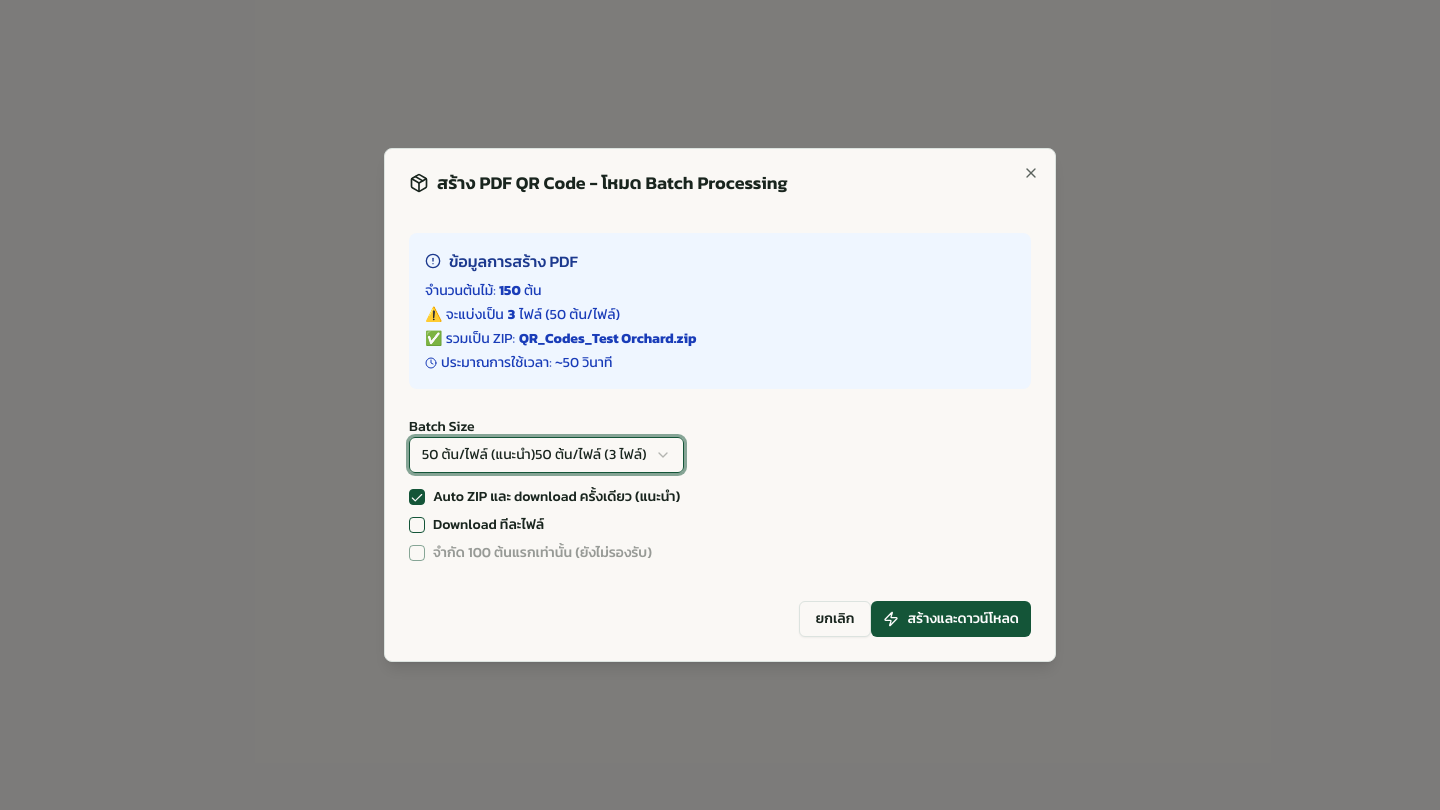
Test: BatchPDFExportModal › error handling › should show error message when generation fails
The width and height of the screenshot is (1440, 810).
Click the button "สร้างและดาวน์โหลด" at (951, 619), box x1=871 y1=601 x2=1031 y2=637
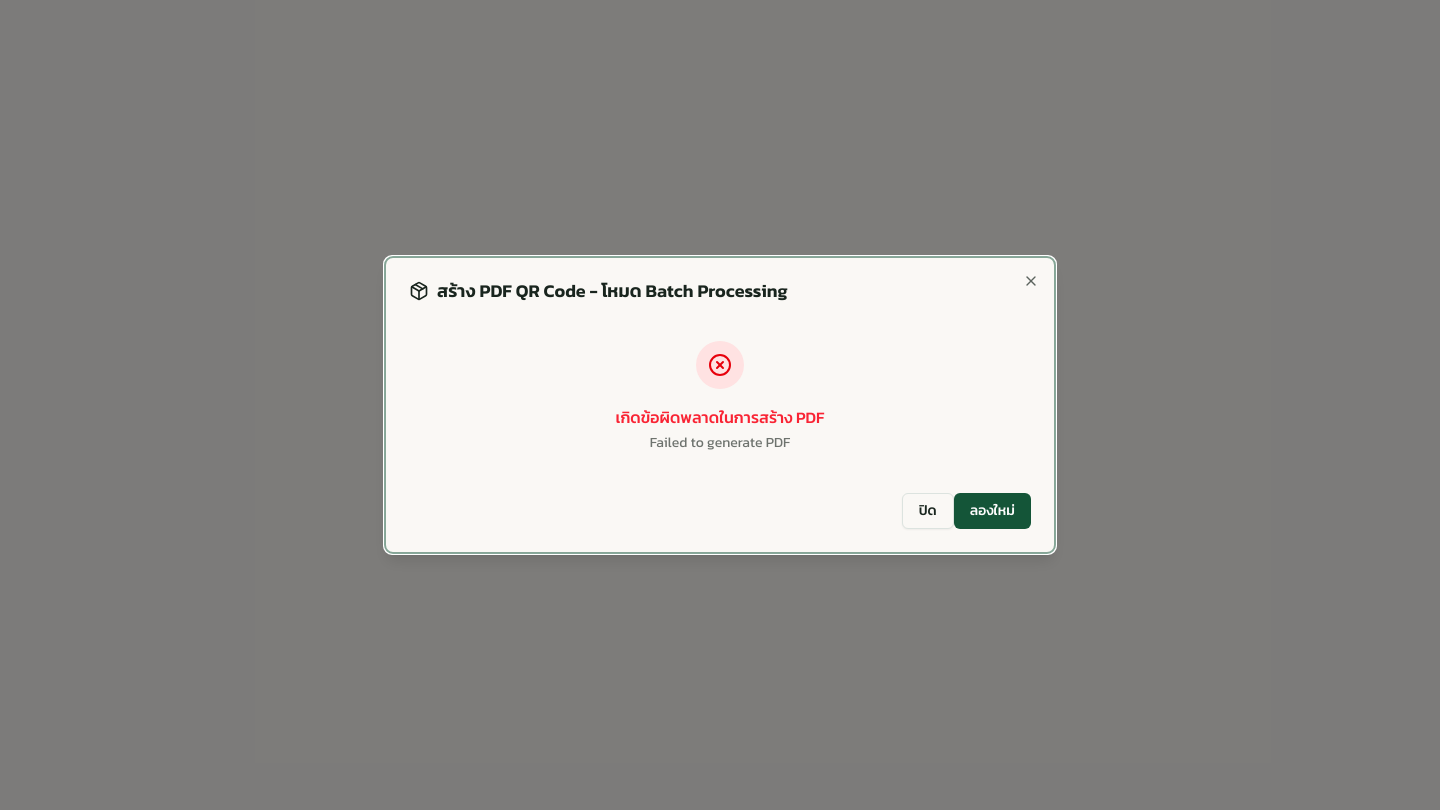
Expected: the text "เกิดข้อผิดพลาดในการสร้าง PDF" is shown, x1=616 y1=405 x2=825 y2=429
Expected: the text "Failed to generate PDF" is shown, x1=650 y1=432 x2=790 y2=453
